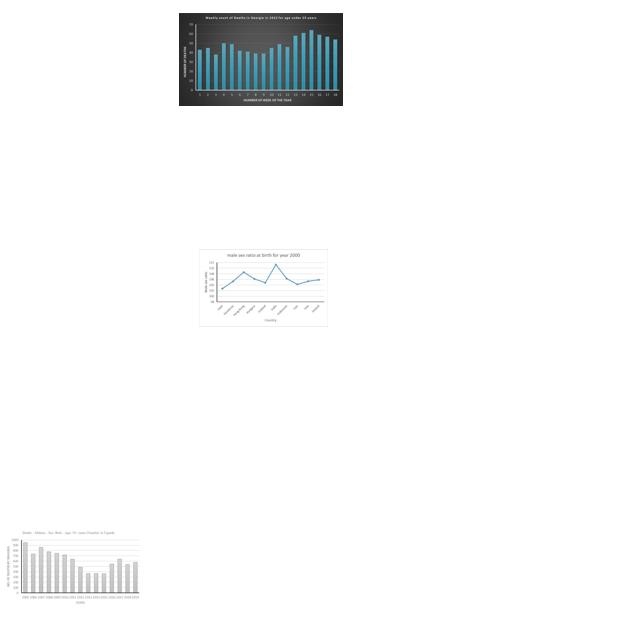Graph: (179, 13, 343, 106), (4, 528, 142, 607), (199, 249, 328, 327)
